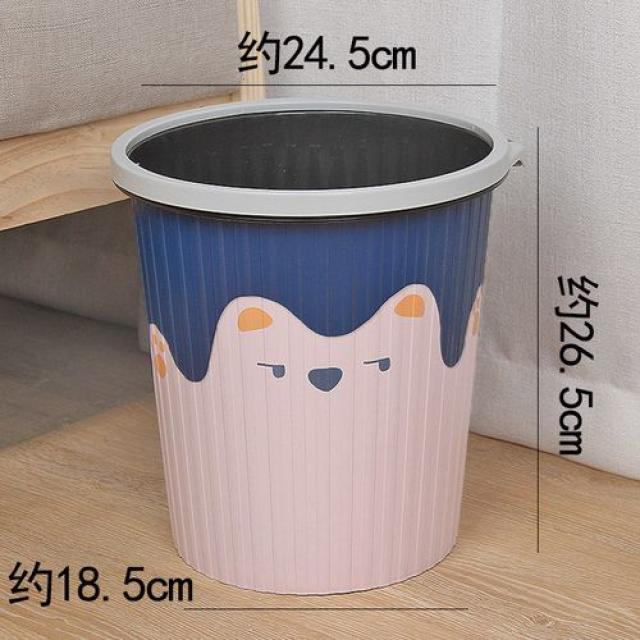dustbin: (104, 93, 532, 602)
